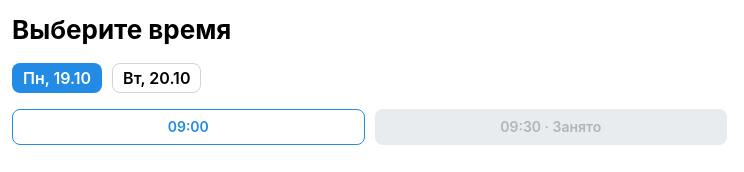
Test: BookSlot › switches between days
The width and height of the screenshot is (744, 172).
Click the button "Вт, 20.10": click(157, 78) [112, 63, 202, 93]
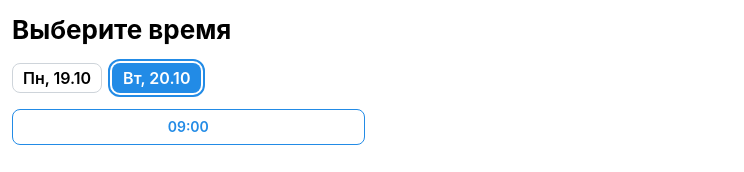
Expected: the button "09:00" is shown, [12, 109, 364, 145]
Result: the button "09:30 · Занято" is gone
